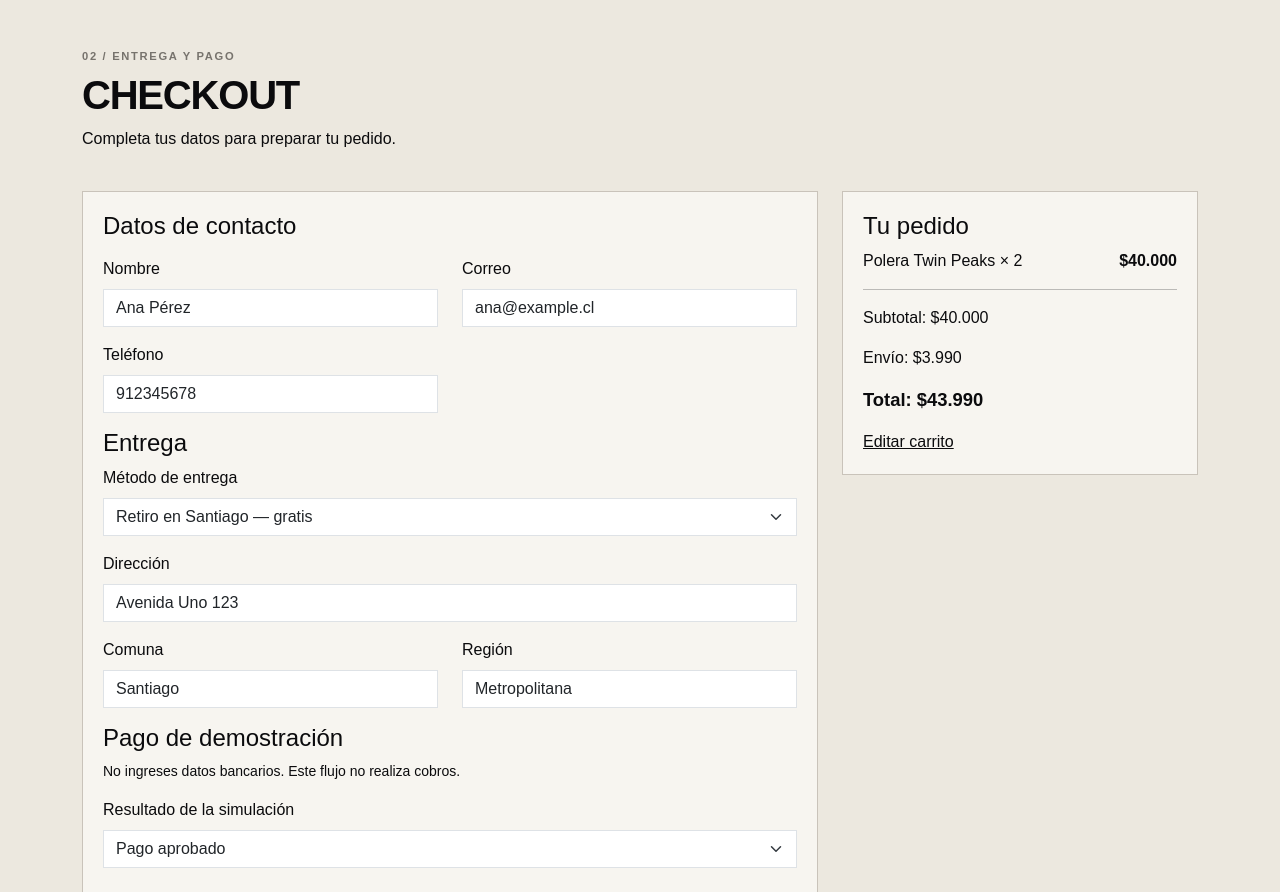
Test case: Formularios y carrito: integración con el servicio simulado › actualiza el total y oculta la dirección al elegir retiro gratuito
This screenshot has width=1280, height=892.
Select "Retiro en Santiago — gratis" in the dropdown with id "entrega": [450, 517] box [103,498,797,536]
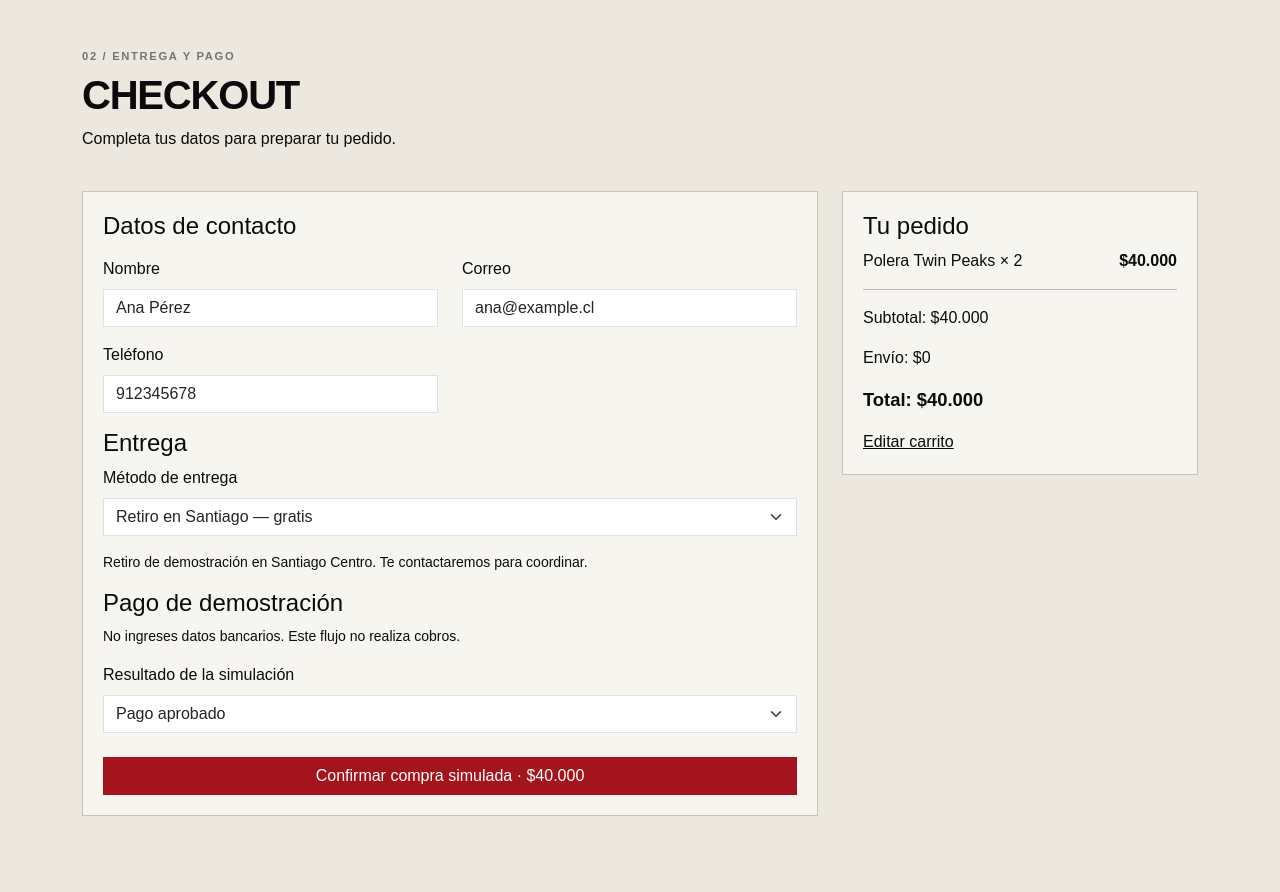
Now the label named "direccion" is gone
